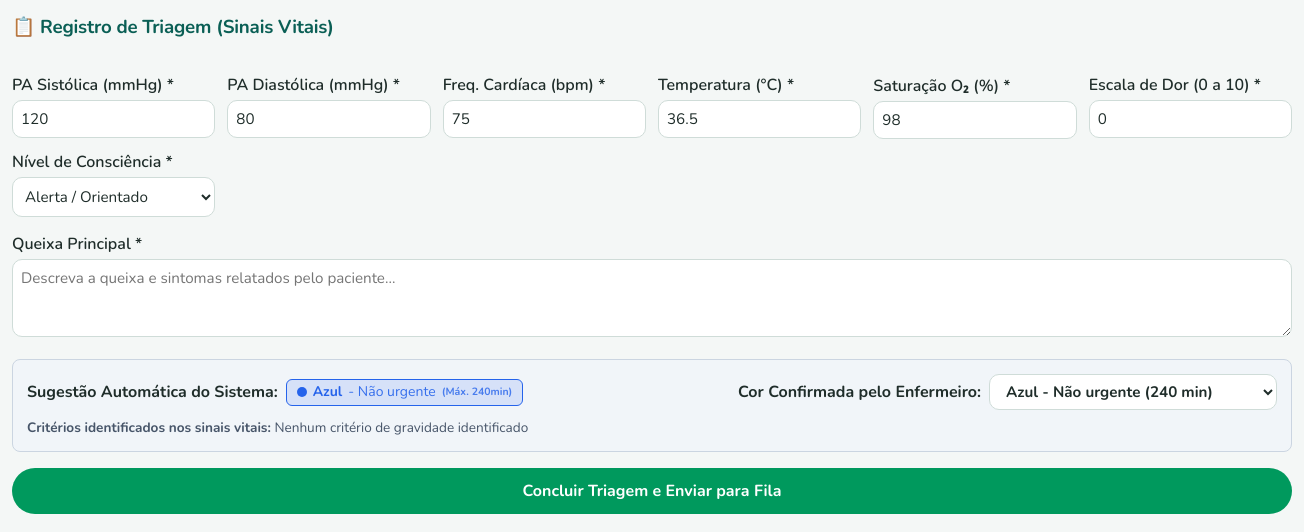
Scenario: Componentes Visuais e de Acessibilidade › VitalSignsForm (Item 3.2, 3.8 & 3.9) › deve recalcular dinamicamente a sugestão automática para Vermelho quando SpO2 < 90%
The width and height of the screenshot is (1304, 532).
Step 1. Replace the text in the number field labelled "Saturação O₂ (%) *" with "88" → (975, 120), box [873,101,1077,139]
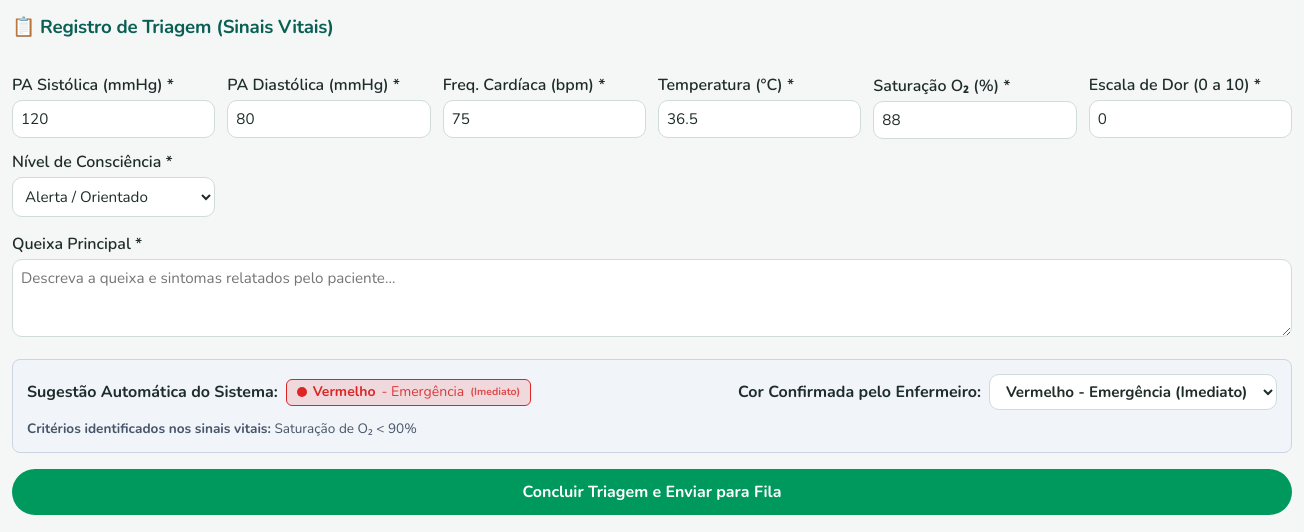
Result: the text "Vermelho" is shown at [313,384,376,401]
